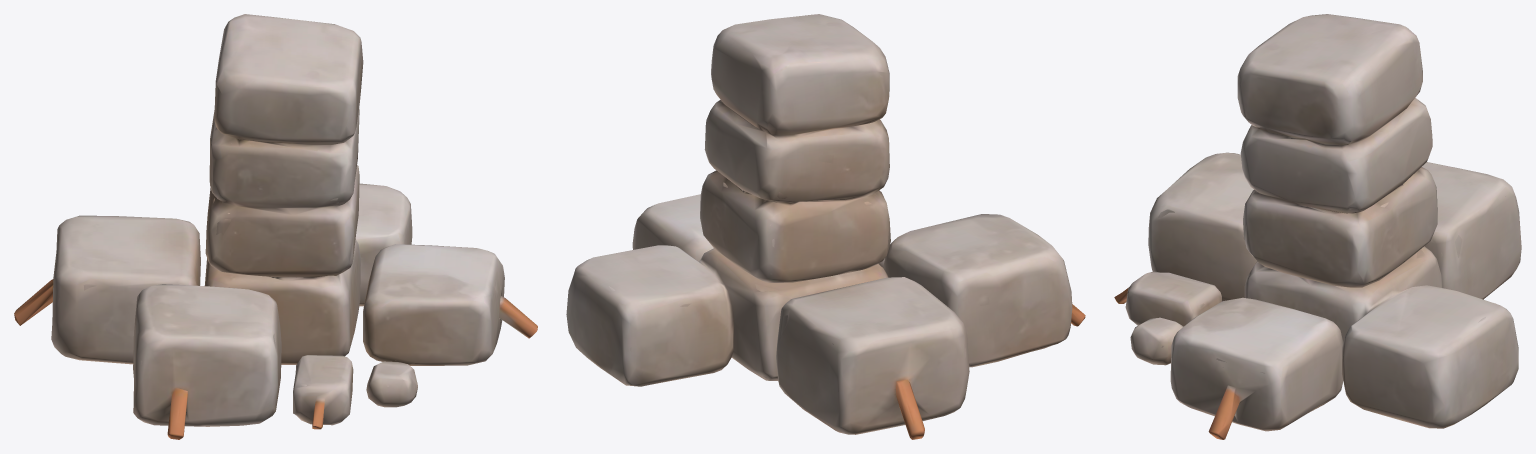
File: sieve-block-stacks.glb
3 renders of one model, left to right at view 1: azimuth 30°, elevation 25°; view 2: azimuth 150°, elevation 25°; view 3: azimuth 270°, elevation 25°, orthographic. The views are drawn at different scales.
Bounding box in the file's own units: 1.8 × 1.32 × 1.54.
1 material, 1 textured.
